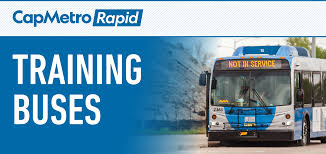bus: (198, 43, 326, 144)
